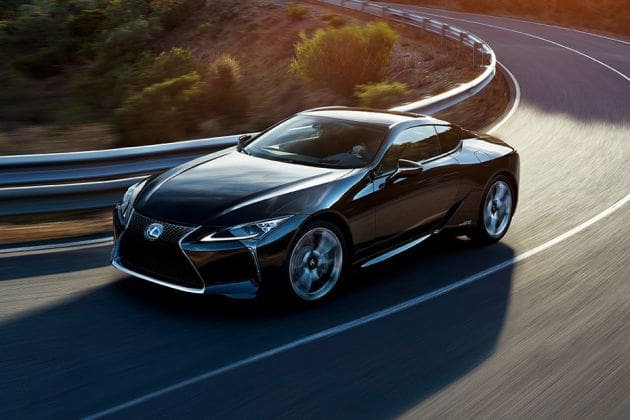car: (114, 103, 522, 304)
